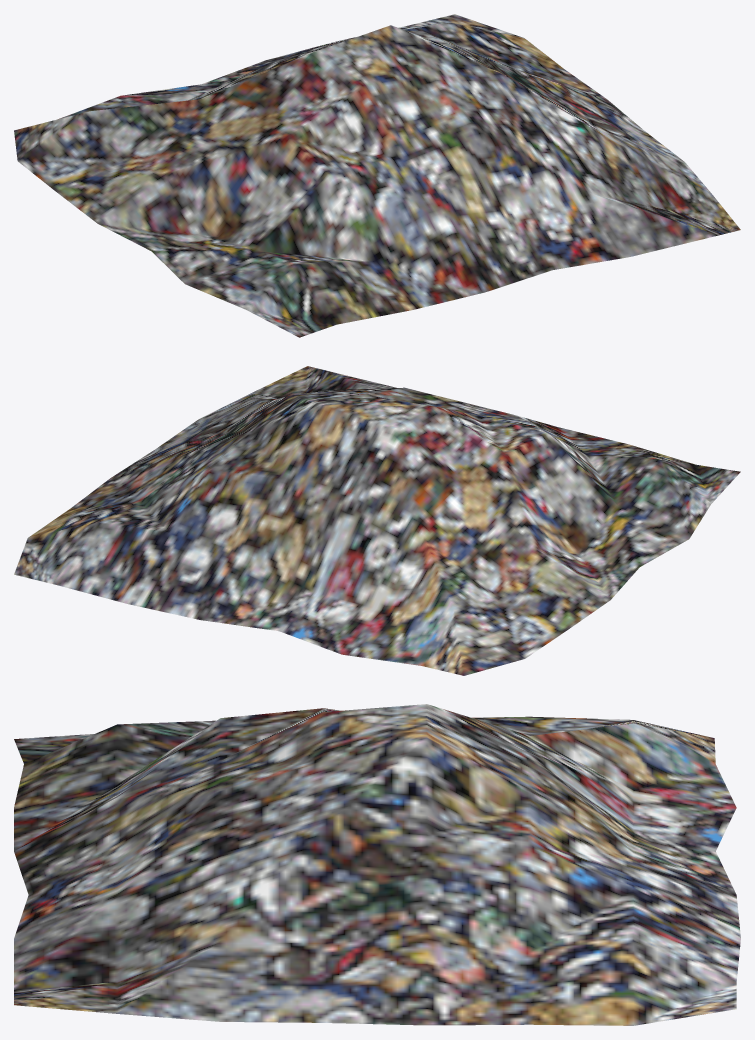
Rendered from Rubbish1_SM.fbx.
3 renders of one model, top to bottom at view 1: azimuth 30°, elevation 25°; view 2: azimuth 150°, elevation 25°; view 3: azimuth 270°, elevation 25°, orthographic. The views are drawn at different scales.
Visible parts, largest first — view 1: Plane003; view 2: Plane003; view 3: Plane003.
Boxes of the visible parts, x1,y1,x2,y2 form: Plane003: (14, 14, 740, 337); Plane003: (14, 366, 740, 675); Plane003: (14, 704, 740, 1025).
Size of the model in its own units: 163 by 38.69 by 163.
